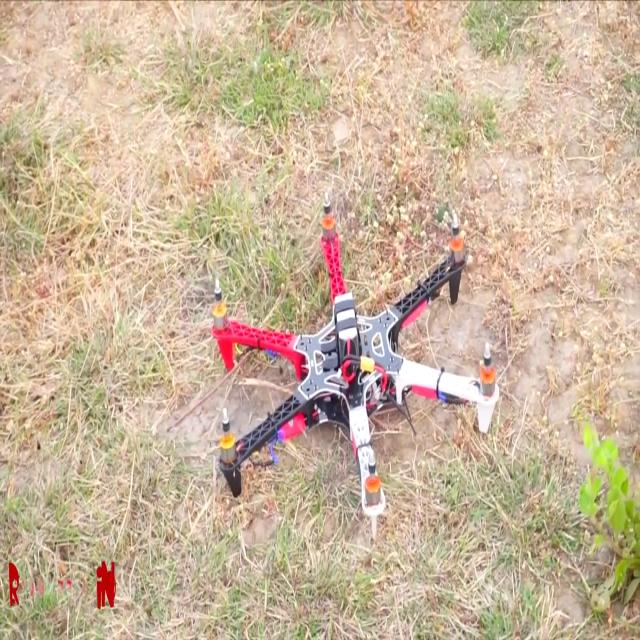drone: (150, 159, 526, 559)
